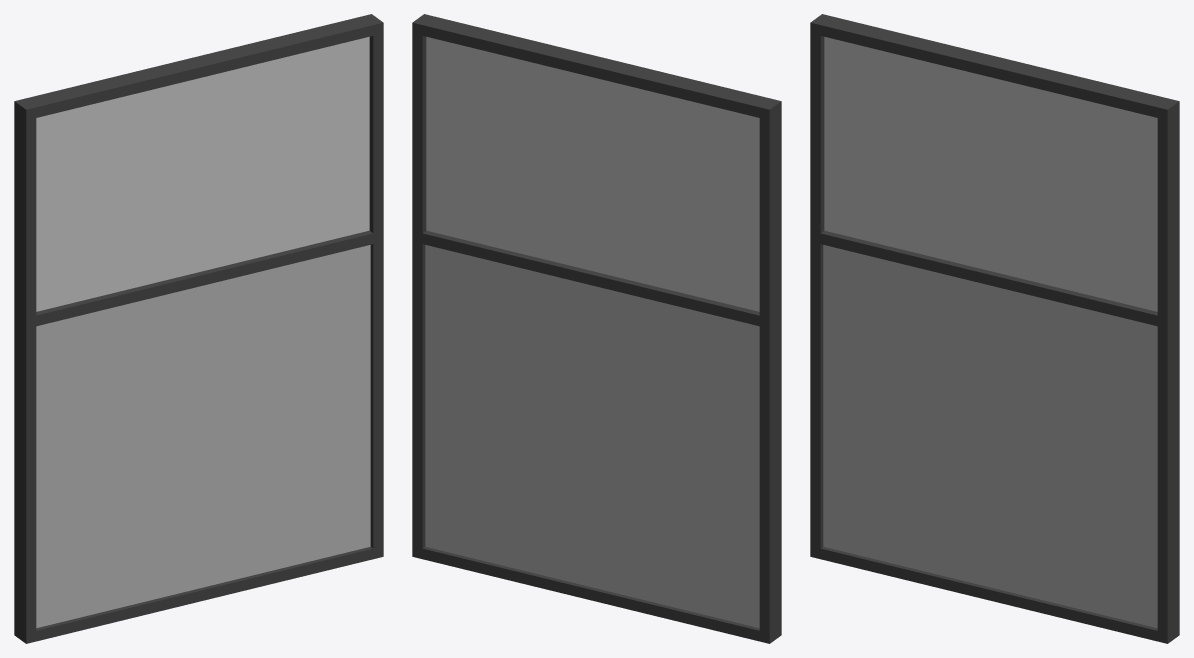
File: Int_OfficePartition01.fbx
3 views of the same model, side by side, from view 1: azimuth 30°, elevation 25°; view 2: azimuth 150°, elevation 25°; view 3: azimuth 330°, elevation 25° (orthographic).
Parts seen in each view (by area): view 1: Int_OfficePartition01; view 2: Int_OfficePartition01; view 3: Int_OfficePartition01.
Boxes of the visible parts, x1,y1,x2,y2 form: Int_OfficePartition01: (14,14,383,643); Int_OfficePartition01: (412,14,781,643); Int_OfficePartition01: (810,14,1179,643).
Size of what is drawn, in the model's own units: 175 by 10 by 250.
